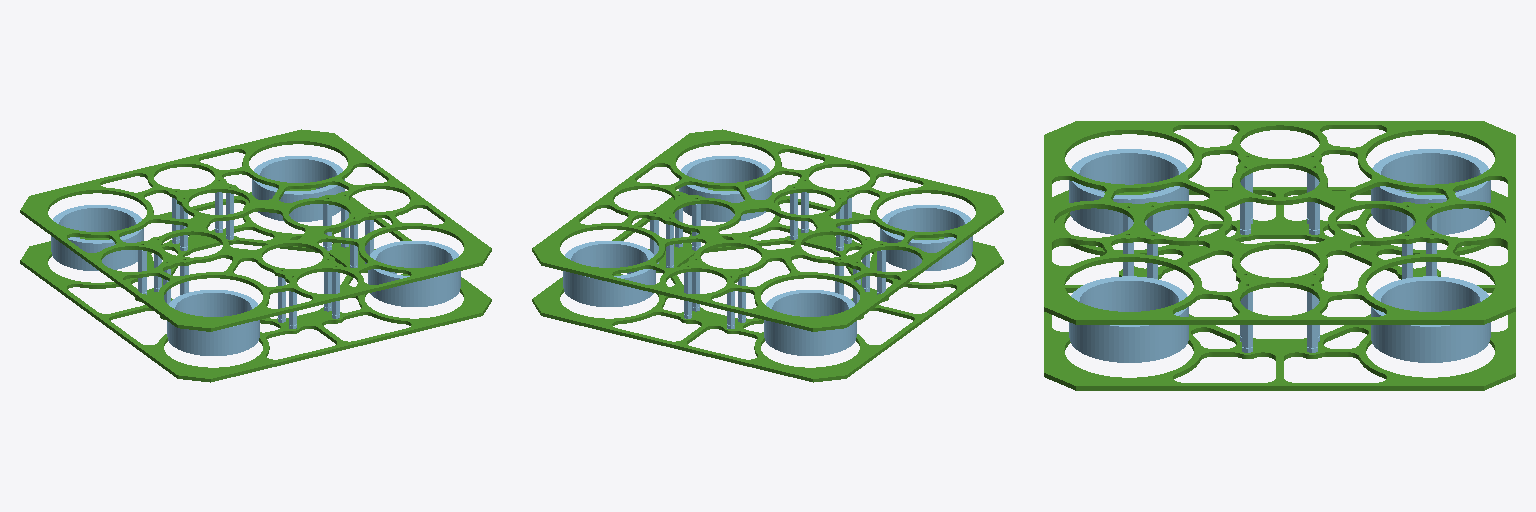
robot.urdf — rival-sim:
<?xml version="1.0" ?>
<!-- Generated using onshape-to-robot -->
<!-- Onshape document_id: bc6f1fc88228e92d1fcf112d -->
<robot name="rival-sim">
  <!-- Link laser_cut_top_plate -->
  <link name="laser_cut_top_plate">
    <inertial>
      <origin xyz="-6.67913e-07 -2.50208e-08 -0.0207071" rpy="0 0 0"/>
      <mass value="0.631979"/>
      <inertia ixx="0.00520447" ixy="4.39897e-08" ixz="-8.65366e-09" iyy="0.00520447" iyz="-1.65977e-11" izz="0.00988391"/>
    </inertial>
    <!-- Part laser_cut_bottom_plate -->
    <visual>
      <origin xyz="2.08167e-17 6.93889e-18 -0.046175" rpy="0 -0 0"/>
      <geometry>
        <mesh filename="package://assets/laser_cut_bottom_plate.stl"/>
      </geometry>
      <material name="laser_cut_bottom_plate_material">
        <color rgba="0.372549 0.654902 0.239216 1.0"/>
      </material>
    </visual>
    <collision>
      <origin xyz="2.08167e-17 6.93889e-18 -0.046175" rpy="0 -0 0"/>
      <geometry>
        <mesh filename="package://assets/laser_cut_bottom_plate.stl"/>
      </geometry>
    </collision>
    <!-- Part laser_cut_top_plate -->
    <visual>
      <origin xyz="0 0 0" rpy="0 -0 0"/>
      <geometry>
        <mesh filename="package://assets/laser_cut_top_plate.stl"/>
      </geometry>
      <material name="laser_cut_top_plate_material">
        <color rgba="0.372549 0.654902 0.239216 1.0"/>
      </material>
    </visual>
    <collision>
      <origin xyz="0 0 0" rpy="0 -0 0"/>
      <geometry>
        <mesh filename="package://assets/laser_cut_top_plate.stl"/>
      </geometry>
    </collision>
    <!-- Part 2106_4008_0430 -->
    <visual>
      <origin xyz="0.0227767 -0.0896262 -0.066419" rpy="1.5708 -0 0"/>
      <geometry>
        <mesh filename="package://assets/2106_4008_0430.stl"/>
      </geometry>
      <material name="2106_4008_0430_material">
        <color rgba="0.615686 0.811765 0.929412 1.0"/>
      </material>
    </visual>
    <collision>
      <origin xyz="0.0227767 -0.0896262 -0.066419" rpy="1.5708 -0 0"/>
      <geometry>
        <mesh filename="package://assets/2106_4008_0430.stl"/>
      </geometry>
    </collision>
    <!-- Part 2106_4008_0430_2 -->
    <visual>
      <origin xyz="0.0639313 0.10356 -0.066419" rpy="1.5708 -0 0"/>
      <geometry>
        <mesh filename="package://assets/2106_4008_0430.stl"/>
      </geometry>
      <material name="2106_4008_0430_2_material">
        <color rgba="0.615686 0.811765 0.929412 1.0"/>
      </material>
    </visual>
    <collision>
      <origin xyz="0.0639313 0.10356 -0.066419" rpy="1.5708 -0 0"/>
      <geometry>
        <mesh filename="package://assets/2106_4008_0430.stl"/>
      </geometry>
    </collision>
    <!-- Part 2106_4008_0430_3 -->
    <visual>
      <origin xyz="0.0654235 0.0879181 -0.066419" rpy="1.5708 -0 0"/>
      <geometry>
        <mesh filename="package://assets/2106_4008_0430.stl"/>
      </geometry>
      <material name="2106_4008_0430_3_material">
        <color rgba="0.615686 0.811765 0.929412 1.0"/>
      </material>
    </visual>
    <collision>
      <origin xyz="0.0654235 0.0879181 -0.066419" rpy="1.5708 -0 0"/>
      <geometry>
        <mesh filename="package://assets/2106_4008_0430.stl"/>
      </geometry>
    </collision>
    <!-- Part 2106_4008_0430_4 -->
    <visual>
      <origin xyz="0.0227767 0.10356 -0.066419" rpy="1.5708 -0 0"/>
      <geometry>
        <mesh filename="package://assets/2106_4008_0430.stl"/>
      </geometry>
      <material name="2106_4008_0430_4_material">
        <color rgba="0.615686 0.811765 0.929412 1.0"/>
      </material>
    </visual>
    <collision>
      <origin xyz="0.0227767 0.10356 -0.066419" rpy="1.5708 -0 0"/>
      <geometry>
        <mesh filename="package://assets/2106_4008_0430.stl"/>
      </geometry>
    </collision>
    <!-- Part 2106_4008_0430_5 -->
    <visual>
      <origin xyz="0.0654235 -0.0739846 -0.066419" rpy="1.5708 -0 0"/>
      <geometry>
        <mesh filename="package://assets/2106_4008_0430.stl"/>
      </geometry>
      <material name="2106_4008_0430_5_material">
        <color rgba="0.615686 0.811765 0.929412 1.0"/>
      </material>
    </visual>
    <collision>
      <origin xyz="0.0654235 -0.0739846 -0.066419" rpy="1.5708 -0 0"/>
      <geometry>
        <mesh filename="package://assets/2106_4008_0430.stl"/>
      </geometry>
    </collision>
    <!-- Part 2106_4008_0430_6 -->
    <visual>
      <origin xyz="0.124305 -0.0151027 -0.066419" rpy="1.5708 -0 0"/>
      <geometry>
        <mesh filename="package://assets/2106_4008_0430.stl"/>
      </geometry>
      <material name="2106_4008_0430_6_material">
        <color rgba="0.615686 0.811765 0.929412 1.0"/>
      </material>
    </visual>
    <collision>
      <origin xyz="0.124305 -0.0151027 -0.066419" rpy="1.5708 -0 0"/>
      <geometry>
        <mesh filename="package://assets/2106_4008_0430.stl"/>
      </geometry>
    </collision>
    <!-- Part 2106_4008_0430_7 -->
    <visual>
      <origin xyz="-0.0532389 0.0275441 -0.066419" rpy="1.5708 -0 0"/>
      <geometry>
        <mesh filename="package://assets/2106_4008_0430.stl"/>
      </geometry>
      <material name="2106_4008_0430_7_material">
        <color rgba="0.615686 0.811765 0.929412 1.0"/>
      </material>
    </visual>
    <collision>
      <origin xyz="-0.0532389 0.0275441 -0.066419" rpy="1.5708 -0 0"/>
      <geometry>
        <mesh filename="package://assets/2106_4008_0430.stl"/>
      </geometry>
    </collision>
    <!-- Part 2106_4008_0430_8 -->
    <visual>
      <origin xyz="0.139947 -0.0136106 -0.066419" rpy="1.5708 -0 0"/>
      <geometry>
        <mesh filename="package://assets/2106_4008_0430.stl"/>
      </geometry>
      <material name="2106_4008_0430_8_material">
        <color rgba="0.615686 0.811765 0.929412 1.0"/>
      </material>
    </visual>
    <collision>
      <origin xyz="0.139947 -0.0136106 -0.066419" rpy="1.5708 -0 0"/>
      <geometry>
        <mesh filename="package://assets/2106_4008_0430.stl"/>
      </geometry>
    </collision>
    <!-- Part 2106_4008_0430_9 -->
    <visual>
      <origin xyz="-0.0375974 0.0290362 -0.066419" rpy="1.5708 -0 0"/>
      <geometry>
        <mesh filename="package://assets/2106_4008_0430.stl"/>
      </geometry>
      <material name="2106_4008_0430_9_material">
        <color rgba="0.615686 0.811765 0.929412 1.0"/>
      </material>
    </visual>
    <collision>
      <origin xyz="-0.0375974 0.0290362 -0.066419" rpy="1.5708 -0 0"/>
      <geometry>
        <mesh filename="package://assets/2106_4008_0430.stl"/>
      </geometry>
    </collision>
    <!-- Part 2106_4008_0430_10 -->
    <visual>
      <origin xyz="-0.0532389 -0.0136106 -0.066419" rpy="1.5708 -0 0"/>
      <geometry>
        <mesh filename="package://assets/2106_4008_0430.stl"/>
      </geometry>
      <material name="2106_4008_0430_10_material">
        <color rgba="0.615686 0.811765 0.929412 1.0"/>
      </material>
    </visual>
    <collision>
      <origin xyz="-0.0532389 -0.0136106 -0.066419" rpy="1.5708 -0 0"/>
      <geometry>
        <mesh filename="package://assets/2106_4008_0430.stl"/>
      </geometry>
    </collision>
    <!-- Part 2106_4008_0430_11 -->
    <visual>
      <origin xyz="0.124305 0.0290362 -0.066419" rpy="1.5708 -0 0"/>
      <geometry>
        <mesh filename="package://assets/2106_4008_0430.stl"/>
      </geometry>
      <material name="2106_4008_0430_11_material">
        <color rgba="0.615686 0.811765 0.929412 1.0"/>
      </material>
    </visual>
    <collision>
      <origin xyz="0.124305 0.0290362 -0.066419" rpy="1.5708 -0 0"/>
      <geometry>
        <mesh filename="package://assets/2106_4008_0430.stl"/>
      </geometry>
    </collision>
    <!-- Part 2106_4008_0430_12 -->
    <visual>
      <origin xyz="0.0639313 -0.0896262 -0.066419" rpy="1.5708 -0 0"/>
      <geometry>
        <mesh filename="package://assets/2106_4008_0430.stl"/>
      </geometry>
      <material name="2106_4008_0430_12_material">
        <color rgba="0.615686 0.811765 0.929412 1.0"/>
      </material>
    </visual>
    <collision>
      <origin xyz="0.0639313 -0.0896262 -0.066419" rpy="1.5708 -0 0"/>
      <geometry>
        <mesh filename="package://assets/2106_4008_0430.stl"/>
      </geometry>
    </collision>
    <!-- Part 2106_4008_0430_13 -->
    <visual>
      <origin xyz="0.139947 0.0275441 -0.066419" rpy="1.5708 -0 0"/>
      <geometry>
        <mesh filename="package://assets/2106_4008_0430.stl"/>
      </geometry>
      <material name="2106_4008_0430_13_material">
        <color rgba="0.615686 0.811765 0.929412 1.0"/>
      </material>
    </visual>
    <collision>
      <origin xyz="0.139947 0.0275441 -0.066419" rpy="1.5708 -0 0"/>
      <geometry>
        <mesh filename="package://assets/2106_4008_0430.stl"/>
      </geometry>
    </collision>
    <!-- Part 2106_4008_0430_14 -->
    <visual>
      <origin xyz="-0.0375974 -0.0151027 -0.066419" rpy="1.5708 -0 0"/>
      <geometry>
        <mesh filename="package://assets/2106_4008_0430.stl"/>
      </geometry>
      <material name="2106_4008_0430_14_material">
        <color rgba="0.615686 0.811765 0.929412 1.0"/>
      </material>
    </visual>
    <collision>
      <origin xyz="-0.0375974 -0.0151027 -0.066419" rpy="1.5708 -0 0"/>
      <geometry>
        <mesh filename="package://assets/2106_4008_0430.stl"/>
      </geometry>
    </collision>
    <!-- Part 2106_4008_0430_15 -->
    <visual>
      <origin xyz="0.0212845 0.0879181 -0.066419" rpy="1.5708 -0 0"/>
      <geometry>
        <mesh filename="package://assets/2106_4008_0430.stl"/>
      </geometry>
      <material name="2106_4008_0430_15_material">
        <color rgba="0.615686 0.811765 0.929412 1.0"/>
      </material>
    </visual>
    <collision>
      <origin xyz="0.0212845 0.0879181 -0.066419" rpy="1.5708 -0 0"/>
      <geometry>
        <mesh filename="package://assets/2106_4008_0430.stl"/>
      </geometry>
    </collision>
    <!-- Part 2106_4008_0430_16 -->
    <visual>
      <origin xyz="0.0212845 -0.0739846 -0.066419" rpy="1.5708 -0 0"/>
      <geometry>
        <mesh filename="package://assets/2106_4008_0430.stl"/>
      </geometry>
      <material name="2106_4008_0430_16_material">
        <color rgba="0.615686 0.811765 0.929412 1.0"/>
      </material>
    </visual>
    <collision>
      <origin xyz="0.0212845 -0.0739846 -0.066419" rpy="1.5708 -0 0"/>
      <geometry>
        <mesh filename="package://assets/2106_4008_0430.stl"/>
      </geometry>
    </collision>
  </link>
  <!-- Link mock_module -->
  <link name="mock_module">
    <inertial>
      <origin xyz="-5.88685e-18 -3.21665e-18 -0.0215" rpy="0 0 0"/>
      <mass value="0.0907185"/>
      <inertia ixx="6.06618e-05" ixy="0" ixz="0" iyy="6.06618e-05" iyz="0" izz="0.000111569"/>
    </inertial>
    <!-- Part mock_module -->
    <visual>
      <origin xyz="0 0 -0.0088" rpy="3.14159 -0 0"/>
      <geometry>
        <mesh filename="package://assets/mock_module.stl"/>
      </geometry>
      <material name="mock_module_material">
        <color rgba="0.615686 0.811765 0.929412 1.0"/>
      </material>
    </visual>
    <collision>
      <origin xyz="0 0 -0.0088" rpy="3.14159 -0 0"/>
      <geometry>
        <mesh filename="package://assets/mock_module.stl"/>
      </geometry>
    </collision>
  </link>
  <!-- Link wheel -->
  <link name="wheel">
    <inertial>
      <origin xyz="9.33197e-12 5.97006e-12 -1.44764e-09" rpy="0 0 0"/>
      <mass value="0.0907185"/>
      <inertia ixx="2.94058e-05" ixy="1.67696e-14" ixz="2.0319e-14" iyy="2.94058e-05" iyz="2.51415e-14" izz="4.56135e-05"/>
    </inertial>
    <!-- Part wheel -->
    <visual>
      <origin xyz="0 0 0" rpy="1.5708 1.5708 0"/>
      <geometry>
        <mesh filename="package://assets/wheel.stl"/>
      </geometry>
      <material name="wheel_material">
        <color rgba="1 1 1 1.0"/>
      </material>
    </visual>
    <collision>
      <origin xyz="0 0 0" rpy="1.5708 1.5708 0"/>
      <geometry>
        <mesh filename="package://assets/wheel.stl"/>
      </geometry>
    </collision>
  </link>
  <!-- Joint from mock_module to wheel -->
  <joint name="rl_drive_wheel" type="continuous">
    <origin xyz="0 0 -0.0215" rpy="-1.5708 -0 1.5708"/>
    <parent link="mock_module"/>
    <child link="wheel"/>
    <axis xyz="0 0 1"/>
    <limit effort="10" velocity="10"/>
  </joint>
  <!-- Joint from laser_cut_top_plate to mock_module -->
  <joint name="rl_steering" type="revolute">
    <origin xyz="-0.095885 -0.095885 0" rpy="0 -0 0"/>
    <parent link="laser_cut_top_plate"/>
    <child link="mock_module"/>
    <axis xyz="0 0 1"/>
    <limit effort="10" velocity="10"/>
  </joint>
  <!-- Link mock_module_2 -->
  <link name="mock_module_2">
    <inertial>
      <origin xyz="-5.88685e-18 -3.21665e-18 1.21431e-17" rpy="0 0 0"/>
      <mass value="0.0907185"/>
      <inertia ixx="6.06618e-05" ixy="0" ixz="0" iyy="6.06618e-05" iyz="0" izz="0.000111569"/>
    </inertial>
    <!-- Part mock_module_2 -->
    <visual>
      <origin xyz="0 0 0.0127" rpy="3.14159 -0 0"/>
      <geometry>
        <mesh filename="package://assets/mock_module.stl"/>
      </geometry>
      <material name="mock_module_2_material">
        <color rgba="0.615686 0.811765 0.929412 1.0"/>
      </material>
    </visual>
    <collision>
      <origin xyz="0 0 0.0127" rpy="3.14159 -0 0"/>
      <geometry>
        <mesh filename="package://assets/mock_module.stl"/>
      </geometry>
    </collision>
  </link>
  <!-- Link wheel_2 -->
  <link name="wheel_2">
    <inertial>
      <origin xyz="9.33197e-12 5.97006e-12 -1.44764e-09" rpy="0 0 0"/>
      <mass value="0.0907185"/>
      <inertia ixx="2.94058e-05" ixy="1.67696e-14" ixz="2.0319e-14" iyy="2.94058e-05" iyz="2.51415e-14" izz="4.56135e-05"/>
    </inertial>
    <!-- Part wheel_2 -->
    <visual>
      <origin xyz="0 0 0" rpy="1.5708 1.5708 0"/>
      <geometry>
        <mesh filename="package://assets/wheel.stl"/>
      </geometry>
      <material name="wheel_2_material">
        <color rgba="1 1 1 1.0"/>
      </material>
    </visual>
    <collision>
      <origin xyz="0 0 0" rpy="1.5708 1.5708 0"/>
      <geometry>
        <mesh filename="package://assets/wheel.stl"/>
      </geometry>
    </collision>
  </link>
  <!-- Joint from mock_module_2 to wheel_2 -->
  <joint name="rr_drive_wheel" type="continuous">
    <origin xyz="-2.77556e-17 0 0" rpy="-1.5708 -0 1.5708"/>
    <parent link="mock_module_2"/>
    <child link="wheel_2"/>
    <axis xyz="0 0 1"/>
    <limit effort="10" velocity="10"/>
  </joint>
  <!-- Joint from laser_cut_top_plate to mock_module_2 -->
  <joint name="rr_steering" type="revolute">
    <origin xyz="0.095885 -0.095885 -0.0215" rpy="0 -0 0"/>
    <parent link="laser_cut_top_plate"/>
    <child link="mock_module_2"/>
    <axis xyz="0 0 1"/>
    <limit effort="10" velocity="10"/>
  </joint>
  <!-- Link mock_module_3 -->
  <link name="mock_module_3">
    <inertial>
      <origin xyz="-5.88685e-18 -3.21665e-18 1.21431e-17" rpy="0 0 0"/>
      <mass value="0.0907185"/>
      <inertia ixx="6.06618e-05" ixy="0" ixz="0" iyy="6.06618e-05" iyz="0" izz="0.000111569"/>
    </inertial>
    <!-- Part mock_module_3 -->
    <visual>
      <origin xyz="0 0 0.0127" rpy="3.14159 -0 0"/>
      <geometry>
        <mesh filename="package://assets/mock_module.stl"/>
      </geometry>
      <material name="mock_module_3_material">
        <color rgba="0.615686 0.811765 0.929412 1.0"/>
      </material>
    </visual>
    <collision>
      <origin xyz="0 0 0.0127" rpy="3.14159 -0 0"/>
      <geometry>
        <mesh filename="package://assets/mock_module.stl"/>
      </geometry>
    </collision>
  </link>
  <!-- Link wheel_3 -->
  <link name="wheel_3">
    <inertial>
      <origin xyz="9.33197e-12 5.97006e-12 -1.44764e-09" rpy="0 0 0"/>
      <mass value="0.0907185"/>
      <inertia ixx="2.94058e-05" ixy="1.67696e-14" ixz="2.0319e-14" iyy="2.94058e-05" iyz="2.51415e-14" izz="4.56135e-05"/>
    </inertial>
    <!-- Part wheel_3 -->
    <visual>
      <origin xyz="0 0 0" rpy="1.5708 1.5708 0"/>
      <geometry>
        <mesh filename="package://assets/wheel.stl"/>
      </geometry>
      <material name="wheel_3_material">
        <color rgba="1 1 1 1.0"/>
      </material>
    </visual>
    <collision>
      <origin xyz="0 0 0" rpy="1.5708 1.5708 0"/>
      <geometry>
        <mesh filename="package://assets/wheel.stl"/>
      </geometry>
    </collision>
  </link>
  <!-- Joint from mock_module_3 to wheel_3 -->
  <joint name="fl_drive_wheel" type="continuous">
    <origin xyz="0 0 0" rpy="-1.5708 -0 1.5708"/>
    <parent link="mock_module_3"/>
    <child link="wheel_3"/>
    <axis xyz="0 0 1"/>
    <limit effort="10" velocity="10"/>
  </joint>
  <!-- Joint from laser_cut_top_plate to mock_module_3 -->
  <joint name="fl_steering" type="revolute">
    <origin xyz="-0.095885 0.095885 -0.0215" rpy="0 -0 0"/>
    <parent link="laser_cut_top_plate"/>
    <child link="mock_module_3"/>
    <axis xyz="0 0 1"/>
    <limit effort="10" velocity="10"/>
  </joint>
  <!-- Link mock_module_4 -->
  <link name="mock_module_4">
    <inertial>
      <origin xyz="-5.88685e-18 -3.21665e-18 1.21431e-17" rpy="0 0 0"/>
      <mass value="0.0907185"/>
      <inertia ixx="6.06618e-05" ixy="0" ixz="0" iyy="6.06618e-05" iyz="0" izz="0.000111569"/>
    </inertial>
    <!-- Part mock_module_4 -->
    <visual>
      <origin xyz="0 0 0.0127" rpy="3.14159 -0 0"/>
      <geometry>
        <mesh filename="package://assets/mock_module.stl"/>
      </geometry>
      <material name="mock_module_4_material">
        <color rgba="0.615686 0.811765 0.929412 1.0"/>
      </material>
    </visual>
    <collision>
      <origin xyz="0 0 0.0127" rpy="3.14159 -0 0"/>
      <geometry>
        <mesh filename="package://assets/mock_module.stl"/>
      </geometry>
    </collision>
  </link>
  <!-- Link wheel_4 -->
  <link name="wheel_4">
    <inertial>
      <origin xyz="9.33197e-12 5.97006e-12 -1.44764e-09" rpy="0 0 0"/>
      <mass value="0.0907185"/>
      <inertia ixx="2.94058e-05" ixy="1.67696e-14" ixz="2.0319e-14" iyy="2.94058e-05" iyz="2.51415e-14" izz="4.56135e-05"/>
    </inertial>
    <!-- Part wheel_4 -->
    <visual>
      <origin xyz="0 0 0" rpy="1.5708 1.5708 0"/>
      <geometry>
        <mesh filename="package://assets/wheel.stl"/>
      </geometry>
      <material name="wheel_4_material">
        <color rgba="1 1 1 1.0"/>
      </material>
    </visual>
    <collision>
      <origin xyz="0 0 0" rpy="1.5708 1.5708 0"/>
      <geometry>
        <mesh filename="package://assets/wheel.stl"/>
      </geometry>
    </collision>
  </link>
  <!-- Joint from mock_module_4 to wheel_4 -->
  <joint name="fr_drive_wheel" type="continuous">
    <origin xyz="0 0 0" rpy="-1.5708 -0 1.5708"/>
    <parent link="mock_module_4"/>
    <child link="wheel_4"/>
    <axis xyz="0 0 1"/>
    <limit effort="10" velocity="10"/>
  </joint>
  <!-- Joint from laser_cut_top_plate to mock_module_4 -->
  <joint name="fr_steering" type="revolute">
    <origin xyz="0.095885 0.095885 -0.0215" rpy="0 -0 0"/>
    <parent link="laser_cut_top_plate"/>
    <child link="mock_module_4"/>
    <axis xyz="0 0 1"/>
    <limit effort="10" velocity="10"/>
  </joint>
</robot>

--- Facts derived from the render (not from the file) ---
The picture shows the robot from 3 angles, left to right: view 1: azimuth 30°, elevation 25°; view 2: azimuth 150°, elevation 25°; view 3: azimuth 270°, elevation 25°; orthographic projection.
Robot: rival-sim — 9 links, 8 joints (4 revolute, 4 continuous); root link laser_cut_top_plate; default pose: all joints at 0.
Visible links, largest first — view 1: laser_cut_top_plate, mock_module_2, mock_module, mock_module_3, mock_module_4; view 2: laser_cut_top_plate, mock_module_4, mock_module_3, mock_module, mock_module_2; view 3: laser_cut_top_plate, mock_module_2, mock_module_4, mock_module, mock_module_3.
Boxes of the visible links, <box> form: laser_cut_top_plate: <box>20,129,491,382</box>; mock_module_2: <box>368,241,460,306</box>; mock_module: <box>167,290,259,355</box>; mock_module_3: <box>51,205,143,270</box>; mock_module_4: <box>252,156,344,221</box>; laser_cut_top_plate: <box>532,129,1003,382</box>; mock_module_4: <box>563,241,655,306</box>; mock_module_3: <box>764,290,856,355</box>; mock_module: <box>880,205,972,270</box>; mock_module_2: <box>679,156,771,221</box>; laser_cut_top_plate: <box>1044,121,1515,390</box>; mock_module_2: <box>1069,276,1188,362</box>; mock_module_4: <box>1371,276,1490,362</box>; mock_module: <box>1069,149,1188,234</box>; mock_module_3: <box>1371,149,1490,234</box>.
Size in the robot's own frame: 0.2997 by 0.2997 by 0.0494 metres.
22 mesh visuals loaded from 5 distinct referenced files (4 binary STL); not drawn: 4 (reference not matched to a file when rendering).